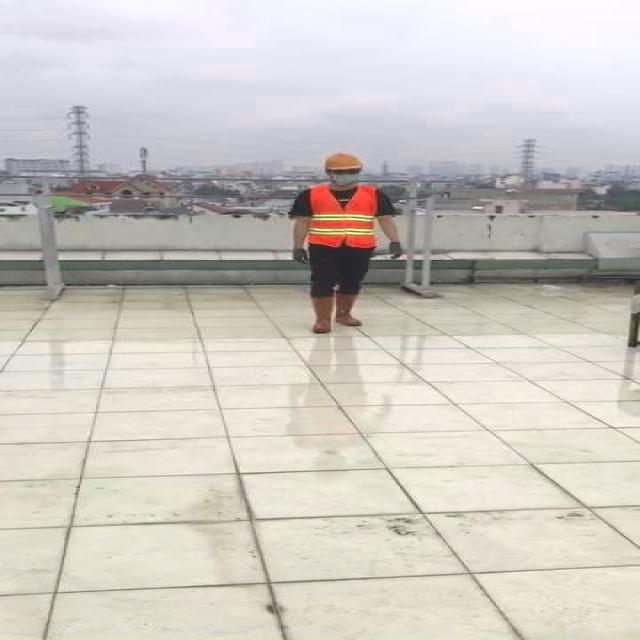boots: (306, 293, 338, 334), (334, 292, 364, 328)
face_mask: (331, 167, 361, 184)
glasses: (325, 167, 363, 177)
hand_glove: (384, 240, 404, 259), (292, 247, 311, 265)
head_helmet: (322, 151, 363, 171)
person: (285, 150, 408, 338)
vest: (308, 186, 380, 249)
